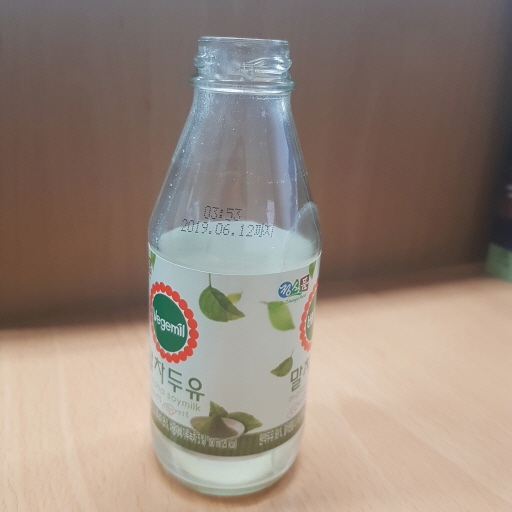Glass_4: (141, 36, 324, 499)
